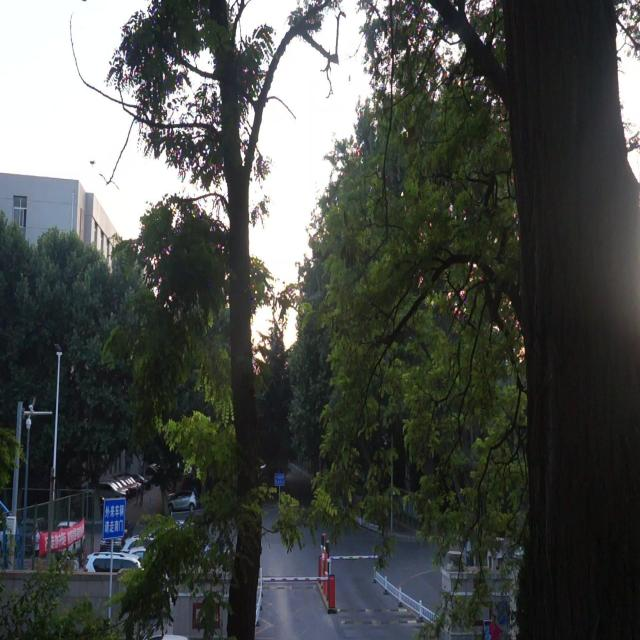drone: (88, 156, 96, 169)
